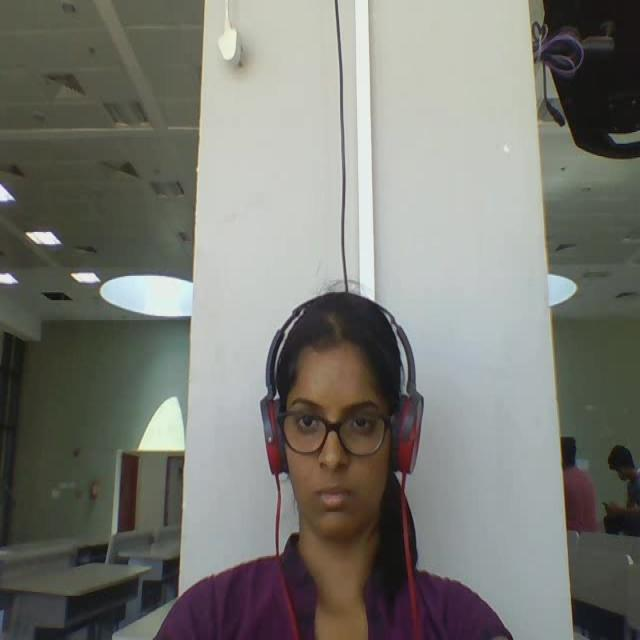Engaged: (221, 264, 451, 588)
